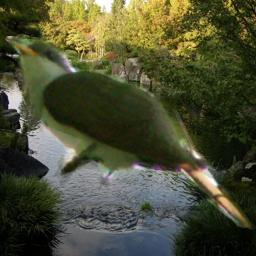Cuckoo: (2, 36, 256, 230)
